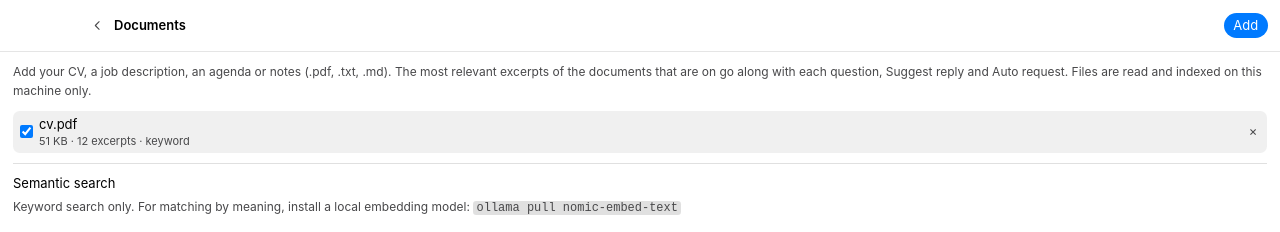
Scenario: DocumentsPanel › should turn documents off and remove them
Click the checkbox named "Use cv.pdf" at (26, 132), box [20,125,32,138]
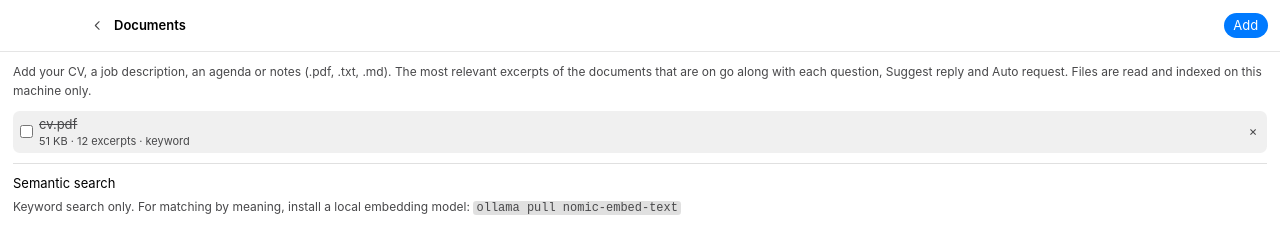
Check: the checkbox named "Use cv.pdf" is not checked, box [20,125,32,138]
Click the button titled "Remove cv.pdf" at (1253, 132), box [1245,119,1260,145]
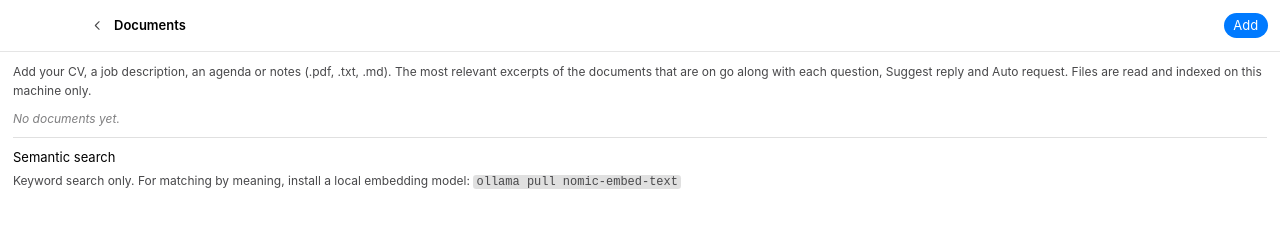
Check: the text "No documents yet." is shown, box [13,110,120,126]
